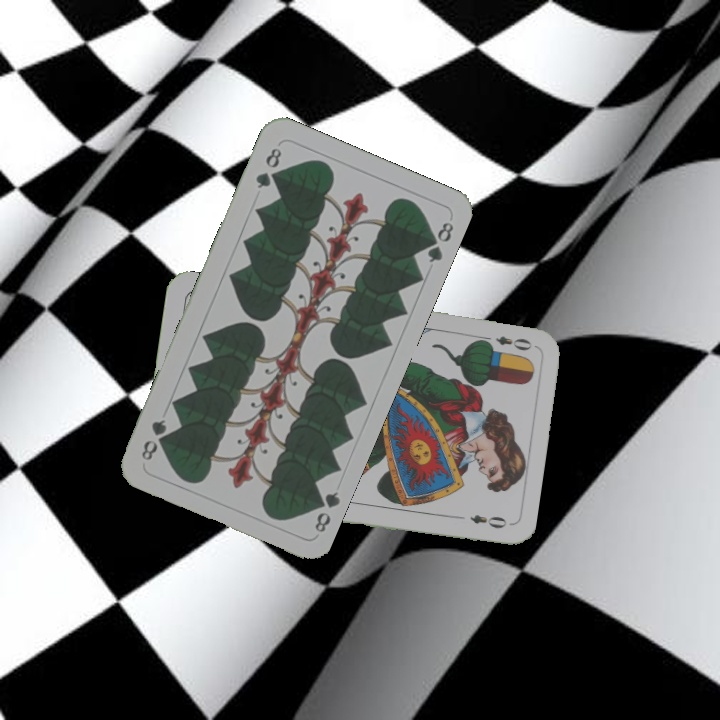EO: (477, 331, 535, 353)
G8: (308, 487, 343, 535), (251, 143, 284, 191)
